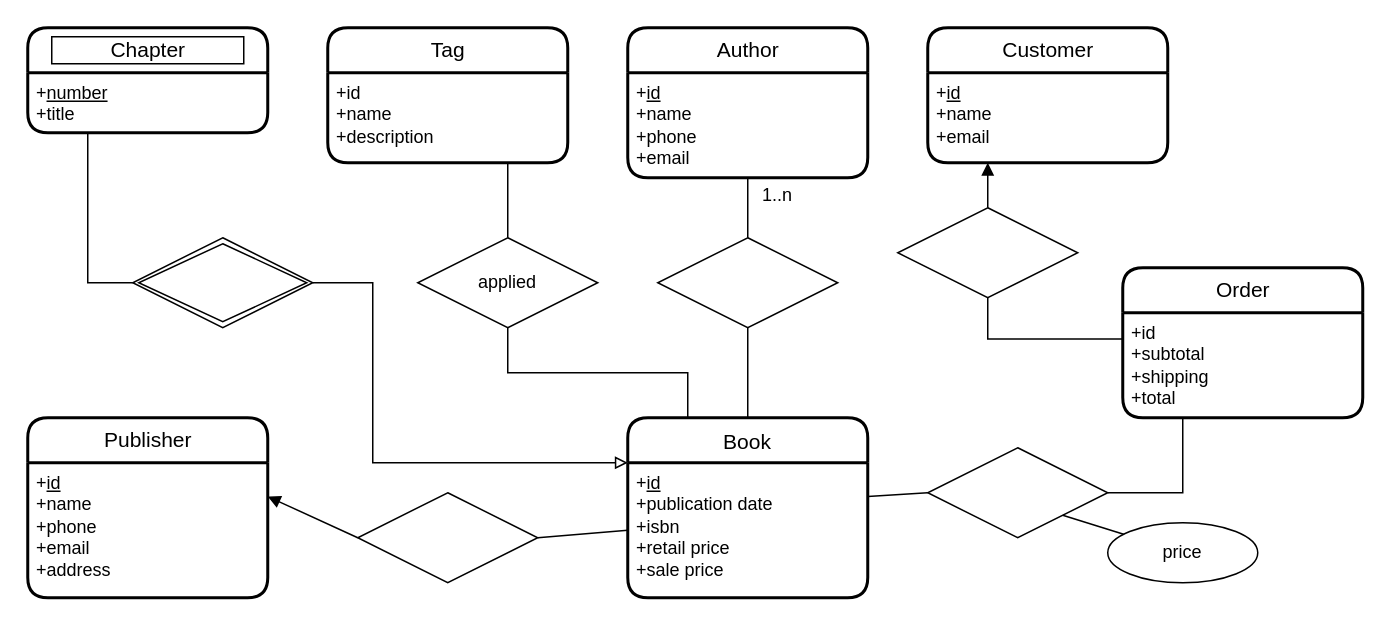
This 1389x624 diagram has some shape labels left out. Each missing label, with the centre of its shape:
"ordered" goes at (x=1017, y=492).
"part of" goes at (x=222, y=282).
"places" goes at (x=987, y=252).
"published by" goes at (x=447, y=537).
"written by" goes at (x=747, y=282).
